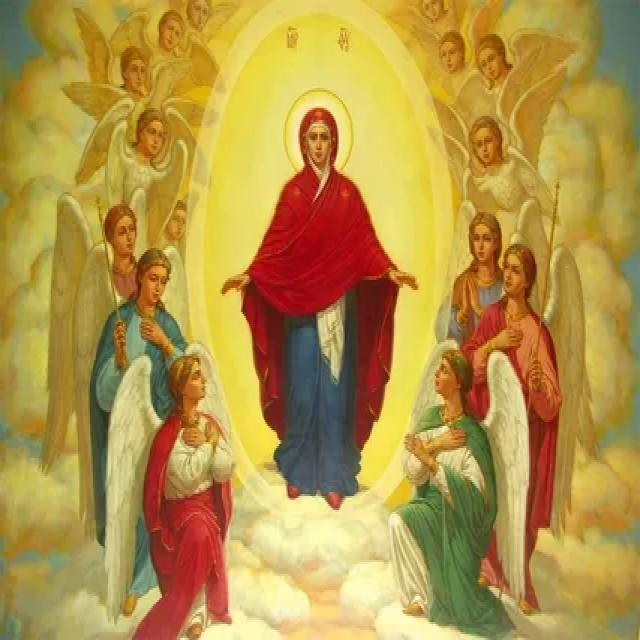mother of god: (216, 91, 420, 513)
